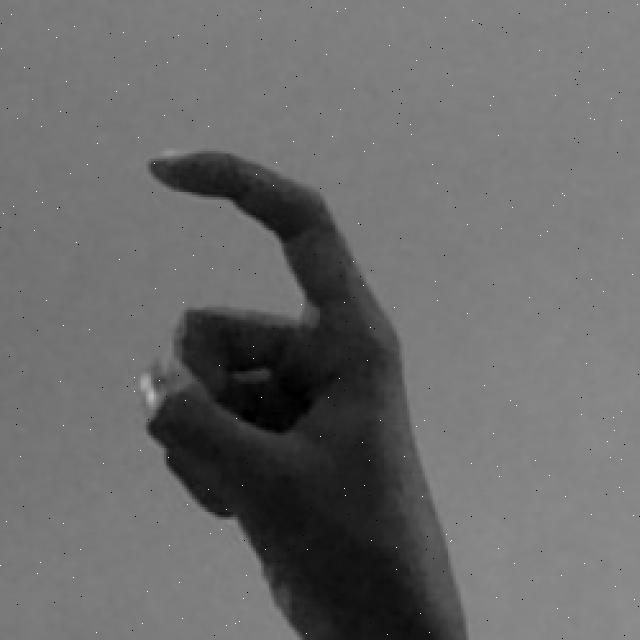X: (123, 138, 476, 640)
